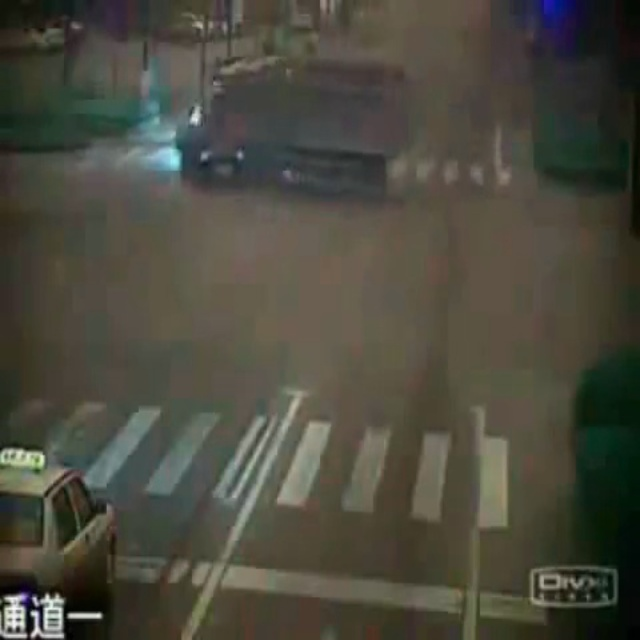acc: (170, 59, 287, 183)
